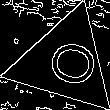O_W: (33, 34, 96, 90)
